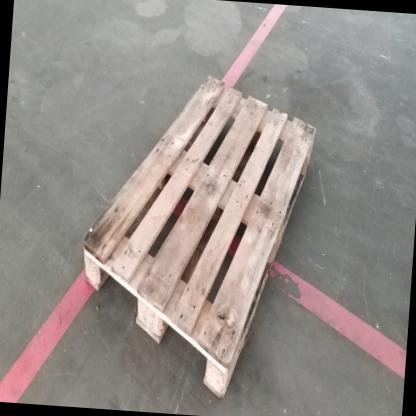BoxFace: (81, 73, 319, 404)
